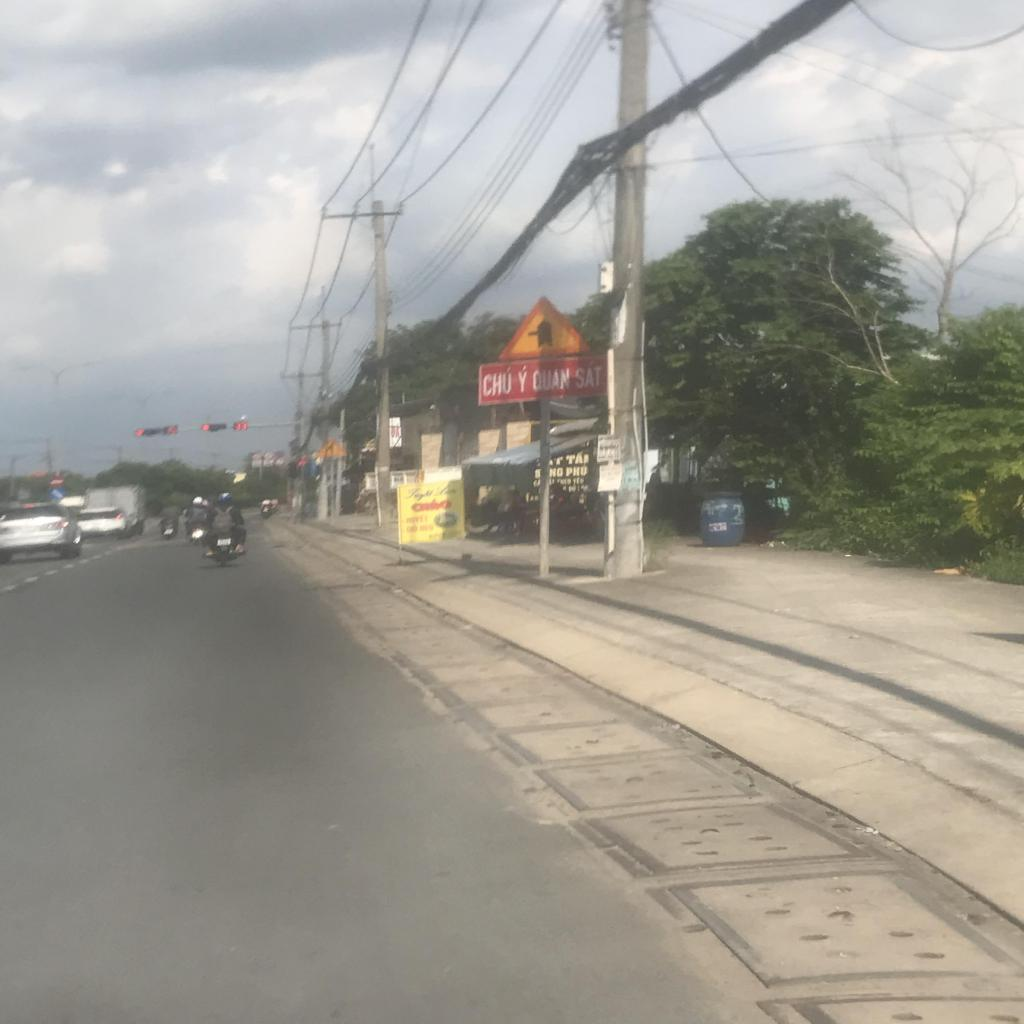giao_nhau_voi_duong_khong_uu_tien: (498, 294, 593, 360)
